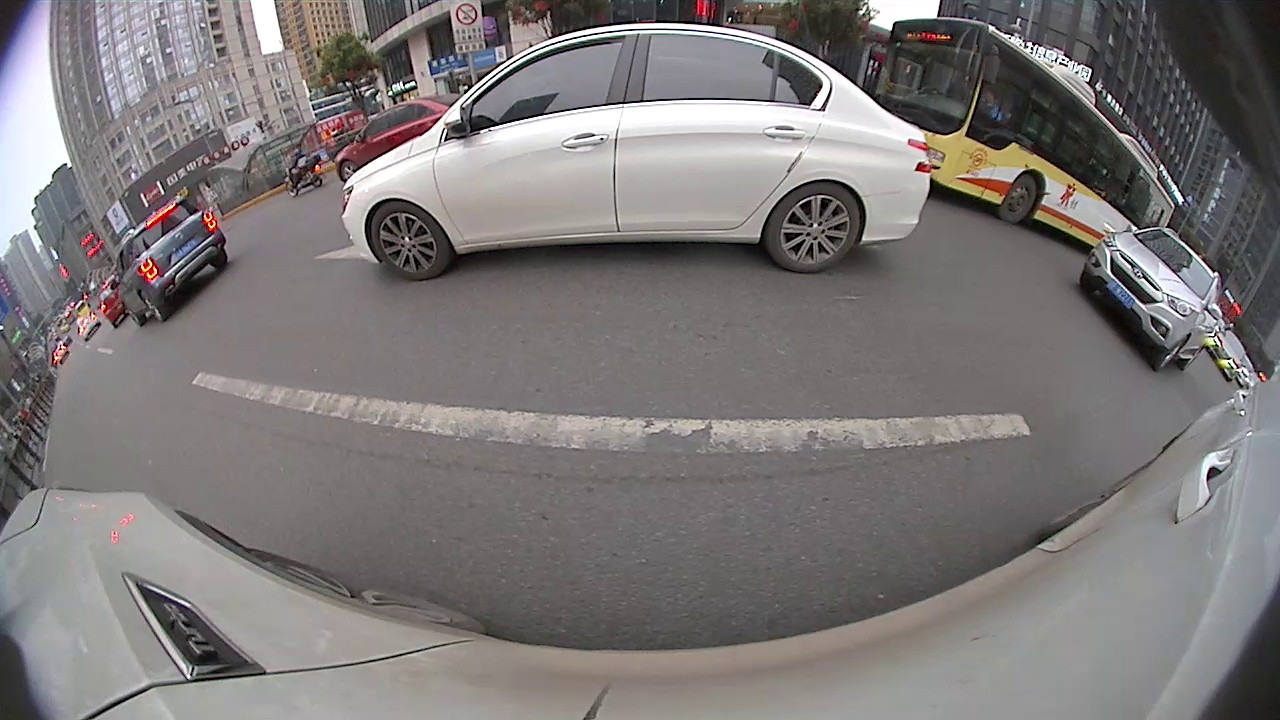bus: (879, 14, 1178, 251)
car: (339, 20, 930, 283), (1078, 224, 1228, 373), (108, 197, 230, 327), (335, 88, 467, 185)
front: (369, 199, 450, 280), (1000, 174, 1036, 223), (1151, 332, 1188, 374), (339, 159, 357, 182)
rear: (764, 183, 860, 277), (139, 292, 167, 321)
